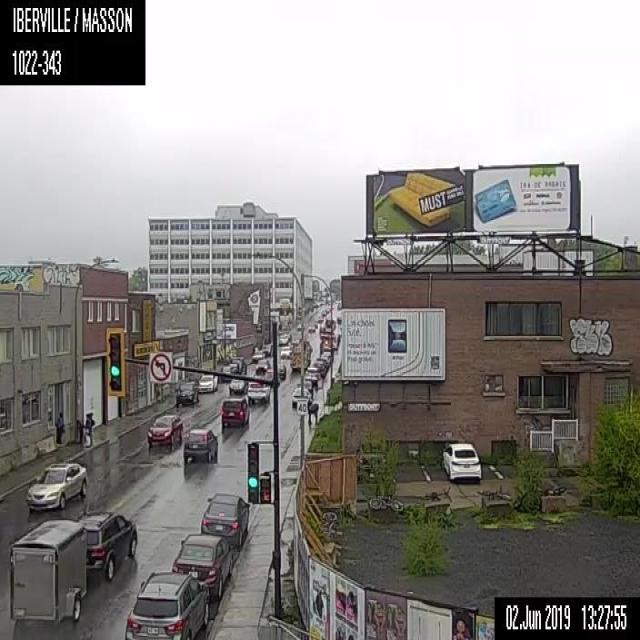pedestrian: (54, 409, 64, 444), (84, 411, 94, 446), (310, 402, 318, 426), (306, 397, 312, 425)
vehicle: (7, 507, 138, 622), (122, 570, 210, 639), (171, 533, 233, 595), (23, 460, 86, 511), (200, 491, 249, 548), (440, 442, 481, 483), (182, 427, 219, 465), (146, 412, 182, 451), (220, 396, 250, 430), (288, 338, 312, 371), (174, 379, 198, 406), (248, 379, 270, 405), (290, 386, 312, 408), (197, 373, 218, 392), (228, 376, 247, 394), (217, 364, 234, 383), (254, 358, 270, 376), (304, 366, 321, 382), (312, 360, 325, 376), (276, 361, 286, 379), (279, 346, 292, 358), (278, 332, 290, 345), (252, 350, 264, 361), (260, 344, 272, 354), (296, 322, 306, 331), (307, 324, 315, 332)
